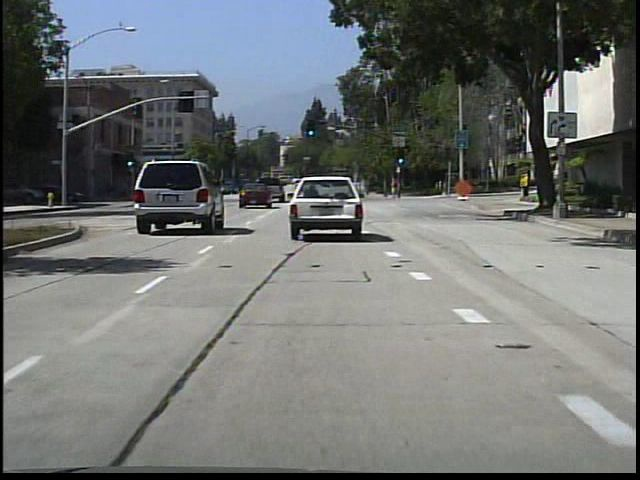person: (390, 173, 405, 201)
